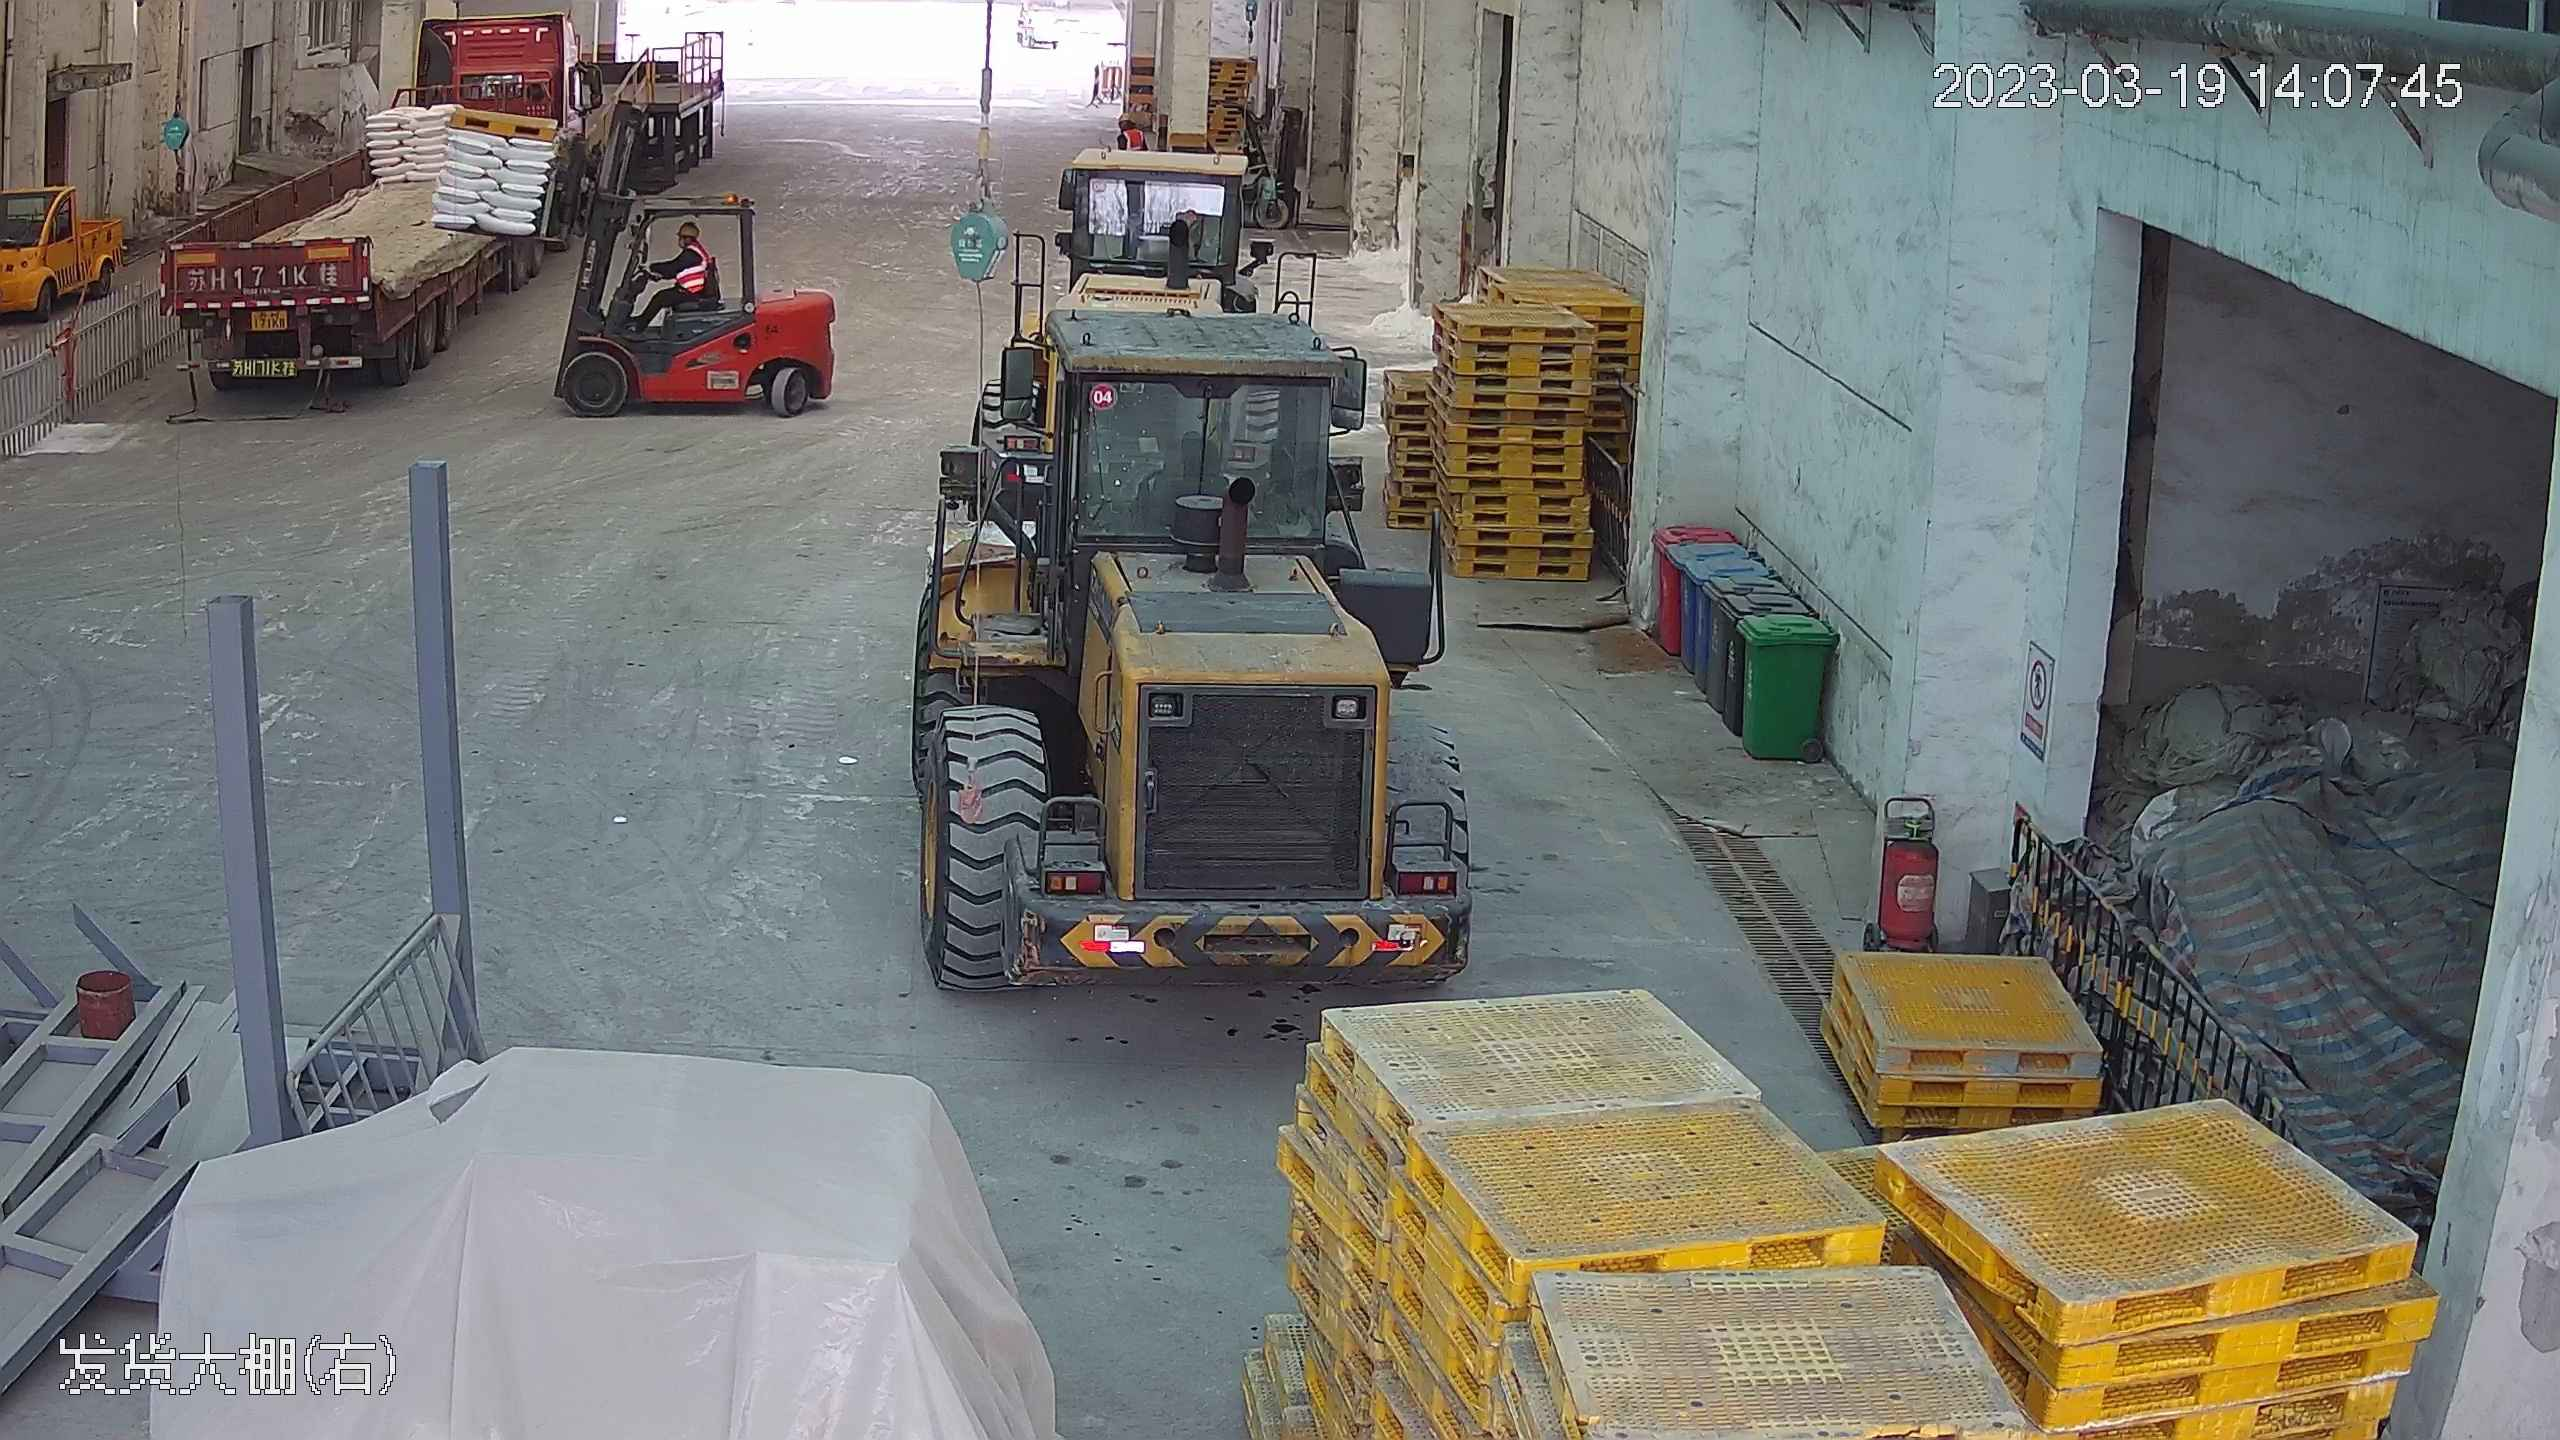head: (668, 219, 710, 267)
helmet: (677, 219, 704, 246)
people: (635, 216, 714, 329), (660, 216, 710, 275)
truck: (147, 12, 585, 393)
